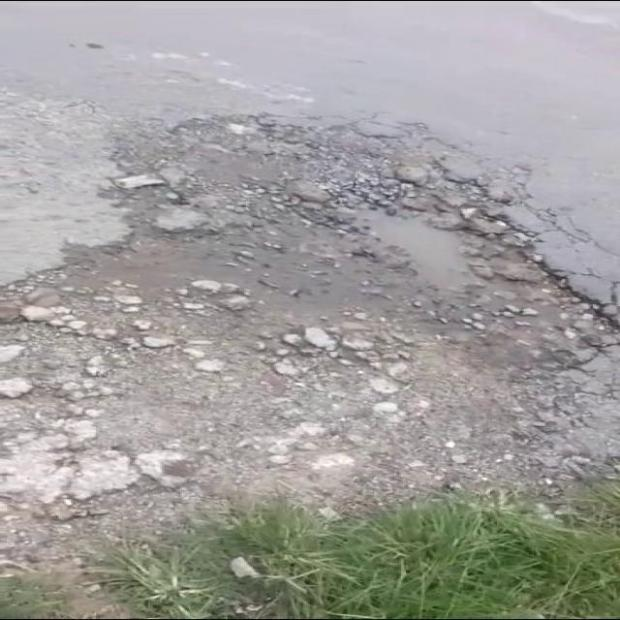lubang: (0, 117, 619, 516)
